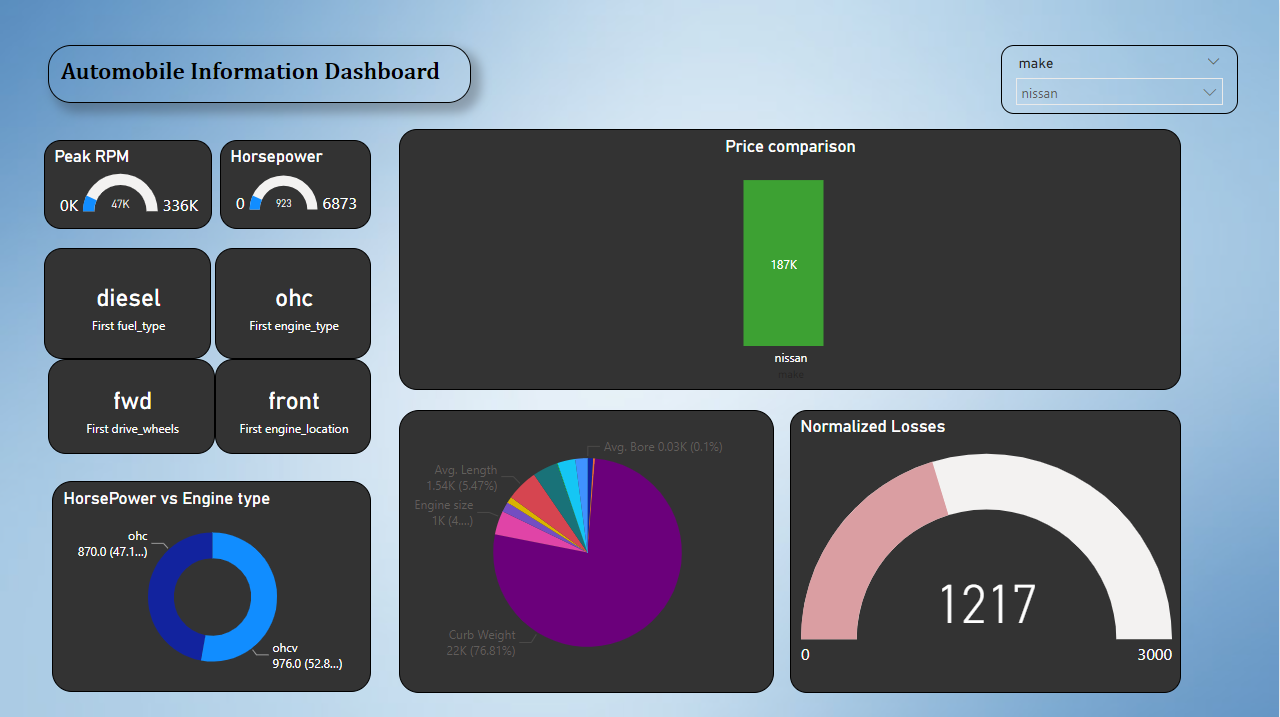

The dashboard page shown, as its layout file describes it:
{"tool":"powerbi","page":{"name":"Page 1","canvas":[1280,720],"ordinal":0},"visuals":[{"type":"donutChart","title":"HorsePower vs Engine type","fields":{"Category":["D5_Automobile_Dataset.engine_type"],"Y":["Sum(D5_Automobile_Dataset.horsepower)"]},"box":[53.3,481.5,318.5,212],"z":0},{"type":"ribbonChart","title":"Price comparison","fields":{"Category":["D5_Automobile_Dataset.make"],"Y":["Sum(D5_Automobile_Dataset.price)"]},"box":[400,130,782.2,261.1],"z":1000},{"type":"slicer","fields":{"Values":["D5_Automobile_Dataset.make"]},"box":[1002,46,237,69],"z":2000},{"type":"pieChart","fields":{"Y":["D5_Automobile_Dataset.Avg. Bore","D5_Automobile_Dataset.Avg. City MPG","D5_Automobile_Dataset.Compression","D5_Automobile_Dataset.Curb Weight","D5_Automobile_Dataset.Engine size","D5_Automobile_Dataset.Avg. Height","D5_Automobile_Dataset.Highwap MPG","D5_Automobile_Dataset.Avg. Length","D5_Automobile_Dataset.Normalized Losses","D5_Automobile_Dataset.Avg. Stoke","D5_Automobile_Dataset.Avg. Wheel Base","D5_Automobile_Dataset.Avg. Width"]},"box":[400,411,375,283],"z":3000},{"type":"card","fields":{"Values":["Min(D5_Automobile_Dataset.drive_wheels)"]},"box":[48.9,359.8,167.4,95.7],"z":4000},{"type":"card","fields":{"Values":["Min(D5_Automobile_Dataset.fuel_type)"]},"box":[44.6,248.9,167.4,110.9],"z":5000},{"type":"gauge","title":"Horsepower","fields":{"Y":["D5_Automobile_Dataset.horsepower average per engine_type"]},"box":[220.7,141.3,151.1,89.1],"z":6000},{"type":"card","fields":{"Values":["Min(D5_Automobile_Dataset.engine_type)"]},"box":[216.3,248.9,155.4,110.9],"z":7000},{"type":"card","fields":{"Values":["Min(D5_Automobile_Dataset.engine_location)"]},"box":[216.3,359.8,155.4,95.7],"z":8000},{"type":"gauge","title":"Peak RPM","fields":{"Y":["D5_Automobile_Dataset.peak_rpm average per engine_type"]},"box":[44.6,141.3,168.5,89.1],"z":9000},{"type":"textbox","box":[48.9,45.7,422.8,58.7],"z":10000},{"type":"gauge","fields":{"Y":["D5_Automobile_Dataset.Normalized Losses"]},"box":[791,411,391,283],"z":10001}]}

Visuals, with their boxes in screenshot pixels (x1, y1, x2, y2), scaled from the page's 1280x720 canvas onto the 1280x717 screenshot:
"HorsePower vs Engine type" donutChart: BBox(53, 479, 372, 691)
"Price comparison" ribbonChart: BBox(400, 129, 1182, 389)
slicer - D5_Automobile_Dataset.make: BBox(1002, 46, 1239, 115)
pieChart - D5_Automobile_Dataset.Avg. Bore x D5_Automobile_Dataset.Avg. City MPG: BBox(400, 409, 775, 691)
card - Min(D5_Automobile_Dataset.drive_wheels): BBox(49, 358, 216, 454)
card - Min(D5_Automobile_Dataset.fuel_type): BBox(45, 248, 212, 358)
"Horsepower" gauge: BBox(221, 141, 372, 229)
card - Min(D5_Automobile_Dataset.engine_type): BBox(216, 248, 372, 358)
card - Min(D5_Automobile_Dataset.engine_location): BBox(216, 358, 372, 454)
"Peak RPM" gauge: BBox(45, 141, 213, 229)
textbox: BBox(49, 46, 472, 104)
gauge - D5_Automobile_Dataset.Normalized Losses: BBox(791, 409, 1182, 691)
